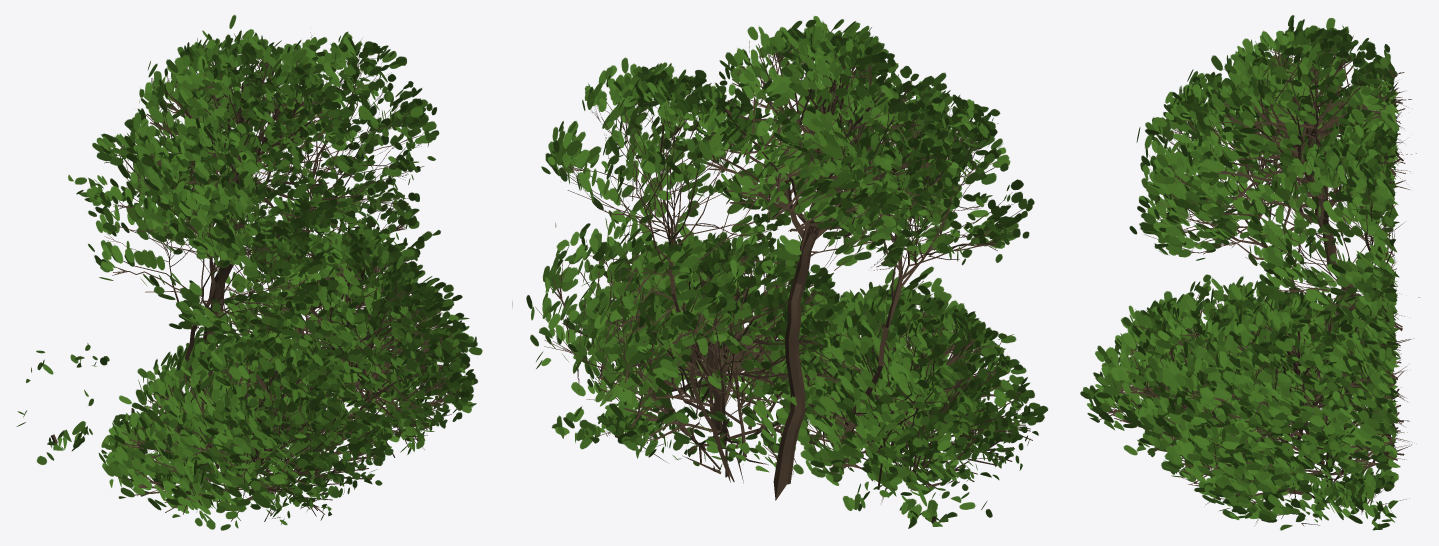
3 views of the same model, side by side, from view 1: azimuth 30°, elevation 25°; view 2: azimuth 150°, elevation 25°; view 3: azimuth 270°, elevation 25° (orthographic). The views are drawn at different scales.
Parts seen in each view (by area): view 1: oak 01.001_trunk_Mat.001_0.338; view 2: oak 01.001_trunk_Mat.001_0.338; view 3: oak 01.001_trunk_Mat.001_0.338.
Part boxes in pixels (<box>): oak 01.001_trunk_Mat.001_0.338: <box>16,14,482,530</box>; oak 01.001_trunk_Mat.001_0.338: <box>512,16,1047,528</box>; oak 01.001_trunk_Mat.001_0.338: <box>1080,15,1419,530</box>.
Size of the model in its own units: 4.91 by 4.73 by 3.4.
2 materials, 1 textured.
